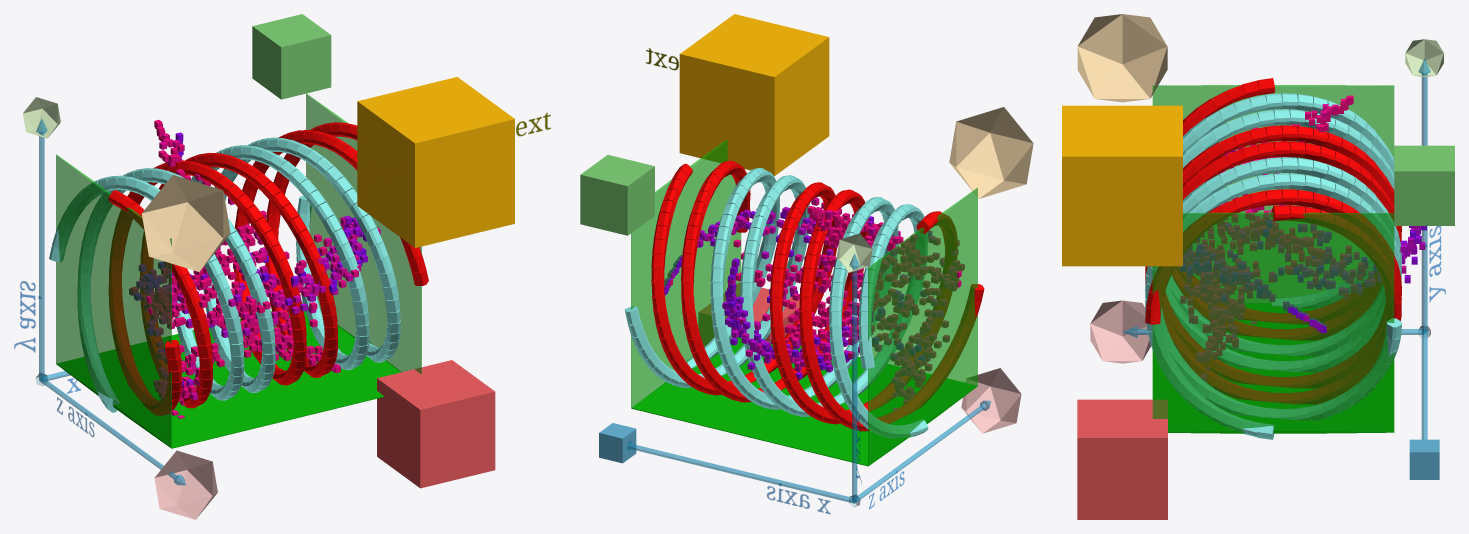
File: test-pattern.glb
3 views of the same model, side by side, from view 1: azimuth 30°, elevation 25°; view 2: azimuth 150°, elevation 25°; view 3: azimuth 270°, elevation 25° (orthographic). The views are drawn at different scales.
Visible parts, largest first — view 1: face (×2), eight, base, six, seven, four, five, y axis, three, z axis; view 2: face (×2), eight, base, seven, four, five, y axis, x axis, six, two, three, z axis; view 3: face (×2), eight, six, base, seven, four, five, y axis, two, three, x axis.
Boxes of the visible parts, x1,y1,x2,y2 form: face (×2): (56, 93, 421, 448); eight: (357, 77, 514, 247); base: (57, 311, 400, 448); six: (377, 360, 495, 488); seven: (141, 175, 230, 271); four: (252, 14, 331, 99); five: (154, 450, 217, 519); y axis: (36, 118, 47, 380); three: (22, 97, 60, 138); z axis: (39, 377, 185, 485); face (×2): (631, 140, 977, 465); eight: (679, 14, 829, 175); base: (631, 337, 977, 466); seven: (949, 107, 1033, 198); four: (580, 155, 654, 235); five: (961, 368, 1021, 433); y axis: (849, 253, 859, 501); x axis: (627, 441, 854, 503); six: (698, 282, 799, 346); two: (599, 423, 636, 463); three: (836, 233, 872, 272); z axis: (853, 400, 990, 503); face (×2): (1152, 85, 1394, 432); eight: (1062, 105, 1182, 266); six: (1077, 399, 1167, 519); base: (1153, 304, 1393, 433); seven: (1077, 14, 1167, 102); four: (1394, 145, 1454, 225); five: (1090, 300, 1150, 363); y axis: (1418, 59, 1430, 332); two: (1409, 439, 1439, 479); three: (1405, 39, 1443, 76); x axis: (1421, 330, 1427, 439).
Bounding box in the file's own units: 1.61 × 1.35 × 1.3.
94 materials, 4 textured.
